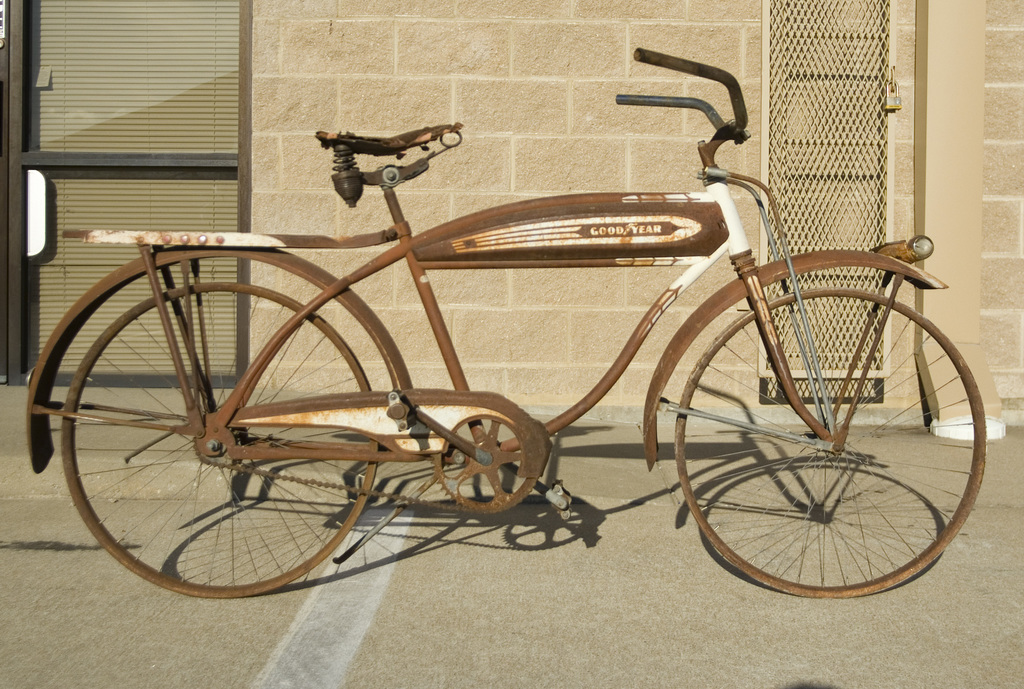Bike: (41, 53, 997, 607)
